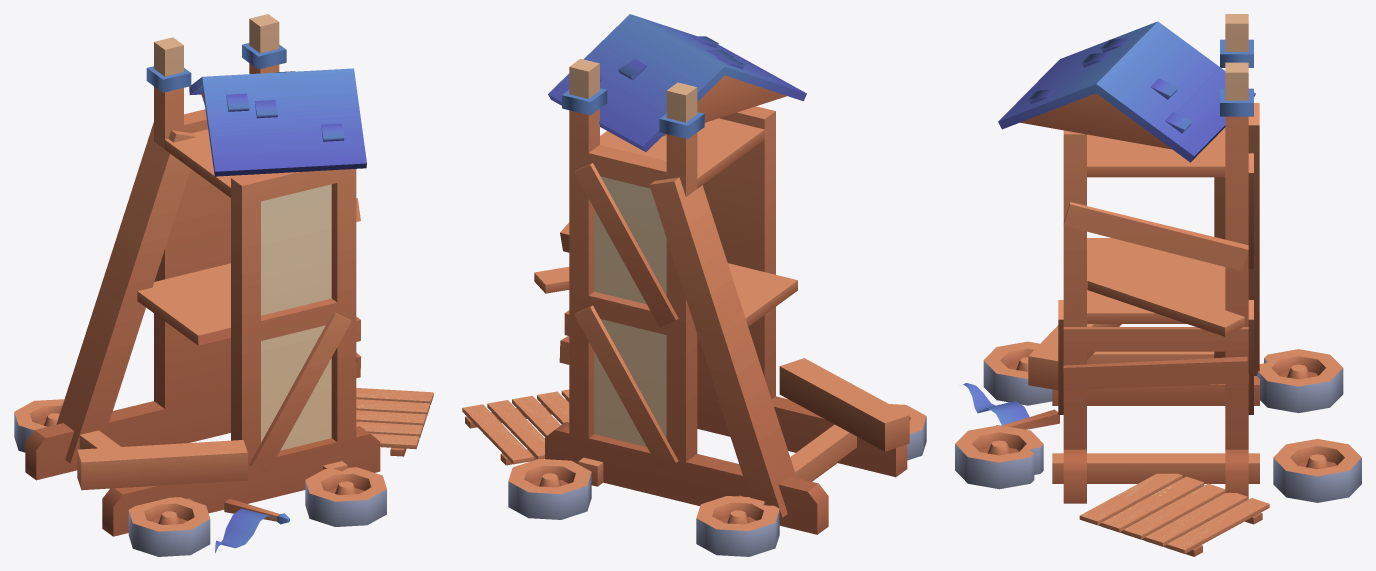
File: siege-tower-demolished.glb
The picture shows the model from 3 angles, left to right: view 1: azimuth 30°, elevation 25°; view 2: azimuth 150°, elevation 25°; view 3: azimuth 270°, elevation 25°; orthographic projection. The views are drawn at different scales.
Parts seen in each view (by area): view 1: siege-tower-demolished; view 2: siege-tower-demolished; view 3: siege-tower-demolished.
Part boxes in pixels (x1,y1,x2,y2): siege-tower-demolished: (14, 14, 433, 556); siege-tower-demolished: (462, 14, 926, 556); siege-tower-demolished: (955, 14, 1361, 556).
Size of the model in its own units: 2.17 by 2.1 by 1.85.
Materials: 1 (1 with a texture image).
